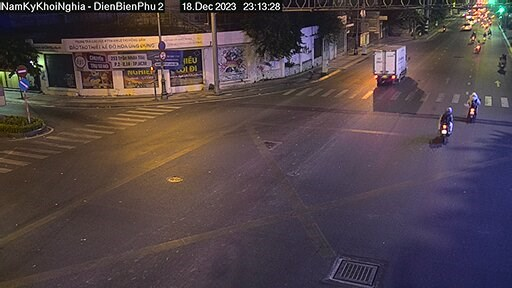motorbike: (429, 106, 456, 142), (458, 89, 482, 122), (491, 52, 512, 75), (464, 29, 482, 46), (475, 41, 487, 57)
truck: (365, 42, 414, 87)
